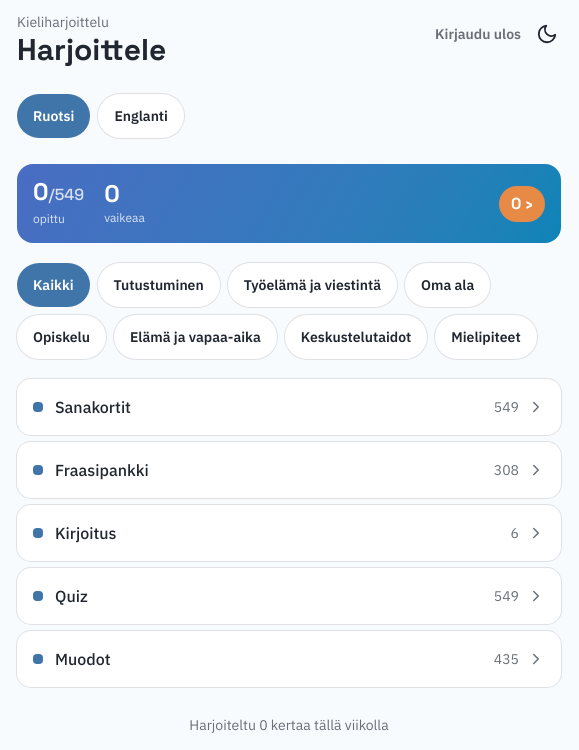
Test: Home (integration) › hides the Muodot module in English (no word-form data yet)
expect the text "Muodot" is shown: met, box left=55, top=647, right=111, bottom=671
Click the button "Englanti".
click(141, 116)  # box left=98, top=94, right=184, bottom=138
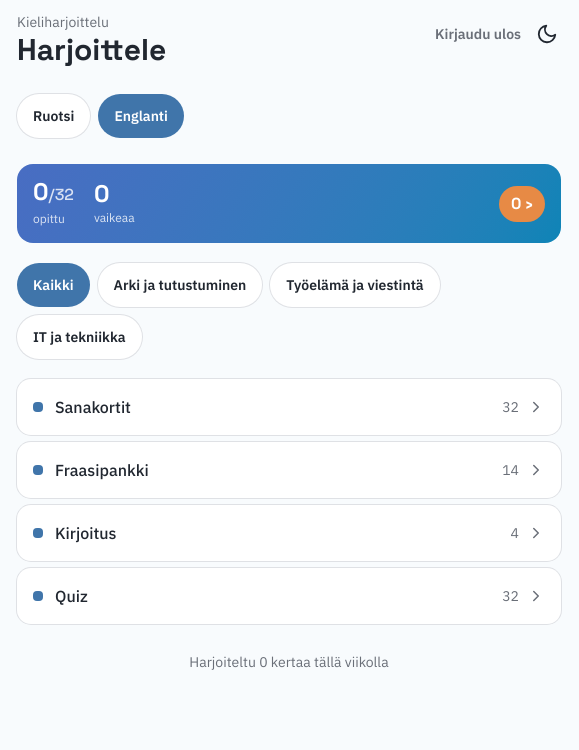
expect the text "Sanakortit" is shown: met, box left=55, top=395, right=131, bottom=419
expect the link "Muodot" is gone: met
